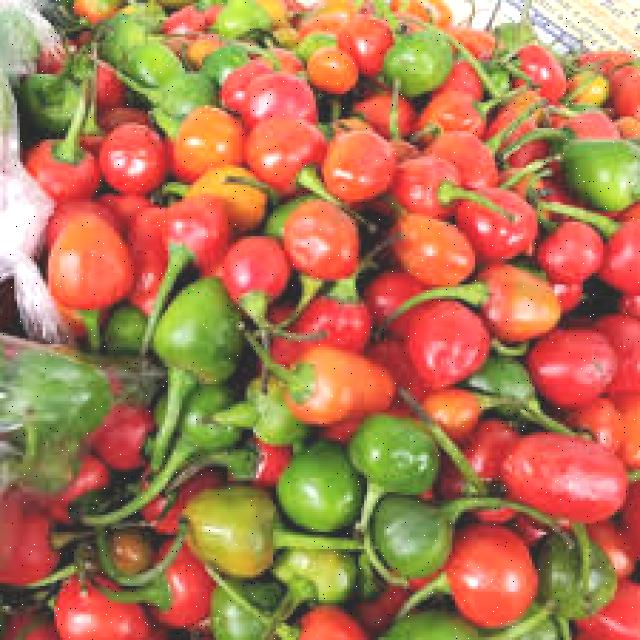NA: (489, 410, 640, 548), (158, 265, 259, 452), (277, 317, 412, 446), (184, 475, 318, 603), (233, 50, 369, 154), (365, 484, 481, 604), (311, 112, 432, 226), (222, 110, 332, 233), (53, 202, 148, 334), (360, 32, 504, 112), (549, 111, 640, 213), (483, 176, 557, 274)
